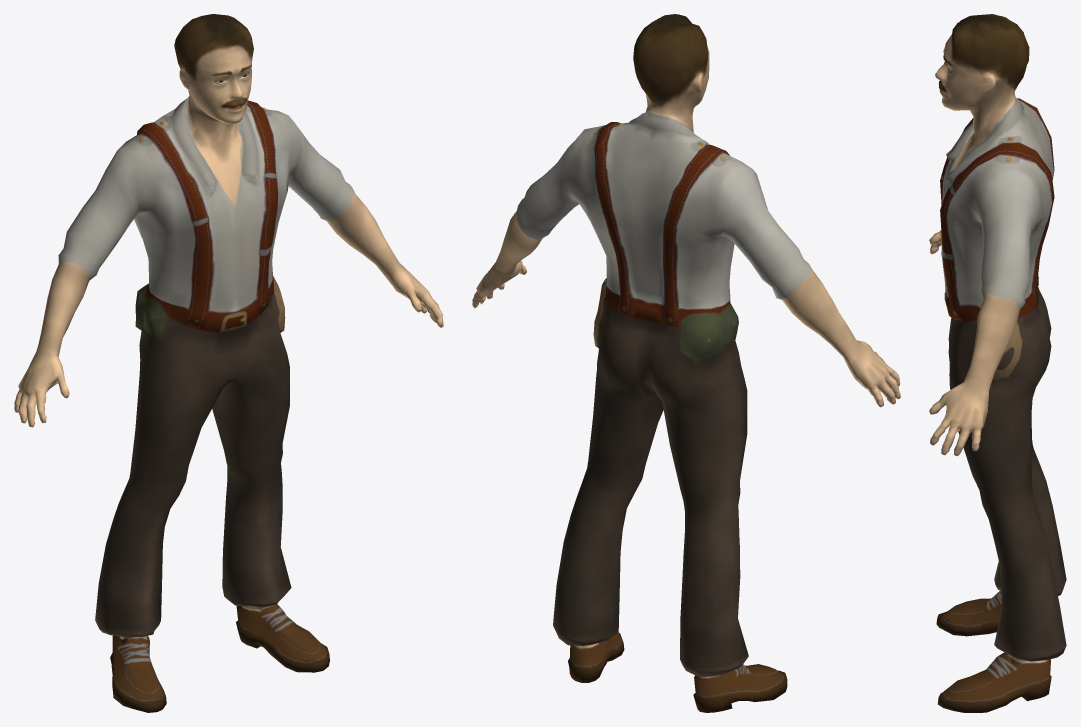
3 renders of one model, left to right at view 1: azimuth 30°, elevation 25°; view 2: azimuth 150°, elevation 25°; view 3: azimuth 270°, elevation 25°, orthographic.
Visible parts, largest first — view 1: gg.001; view 2: gg.001; view 3: gg.001.
Boxes of the visible parts, x1=… form: gg.001: x1=14, y1=14, x2=443, y2=712; gg.001: x1=472, y1=14, x2=900, y2=712; gg.001: x1=929, y1=14, x2=1066, y2=712.
Size of the model in its own units: 115 by 173 by 33.03.
Materials: 2 (2 with a texture image).
